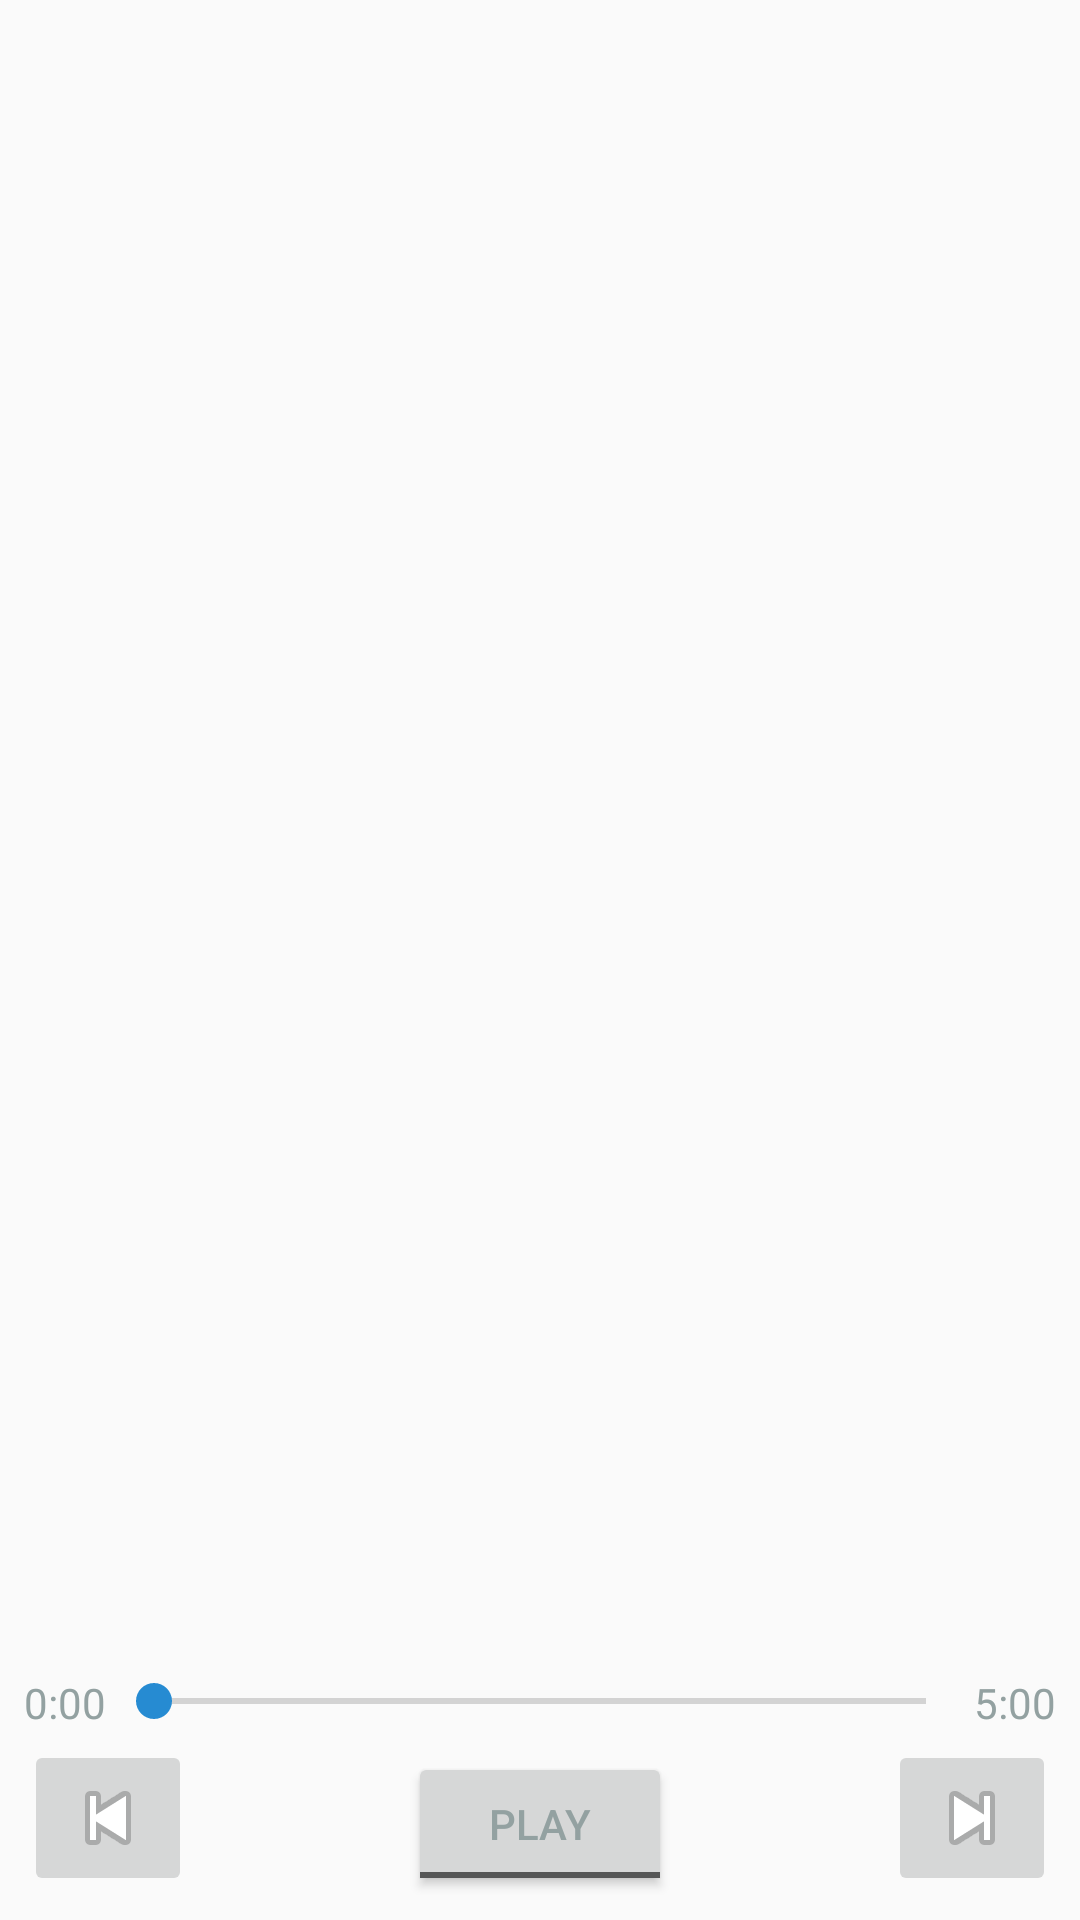

Icon click points for this 1080px×1920px phone screenshot, format point (x, y):
next: point (972, 1818)
previous: point (108, 1818)
